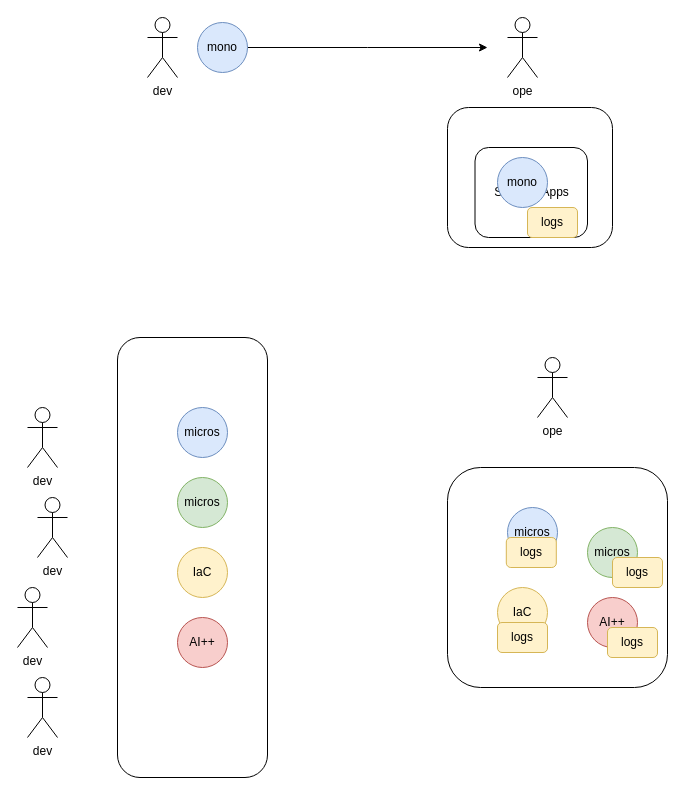
Some shapes in this 685 by 795 pixel diagram are drawn without their labels. The box of each missing label's shape, as (x1, y1, x2, y2) in pixels:
git: (116, 336, 268, 778)
Infra: (446, 106, 612, 248)
Plataforma: (446, 466, 668, 688)
